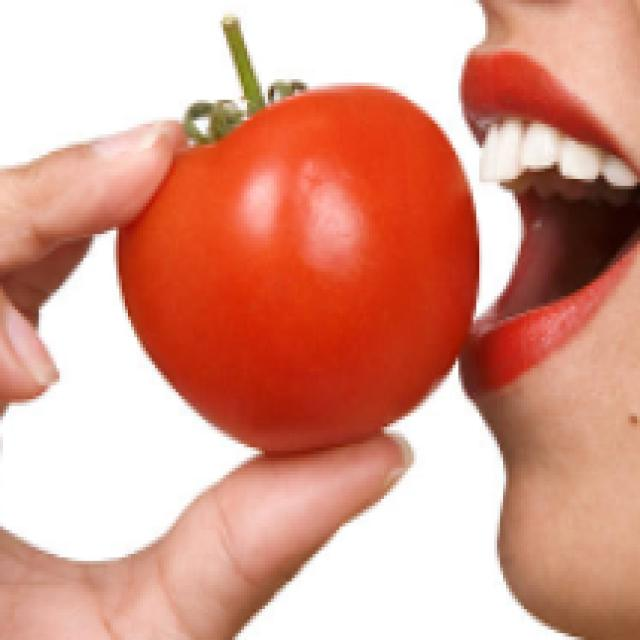Tomato: (106, 26, 487, 450)
